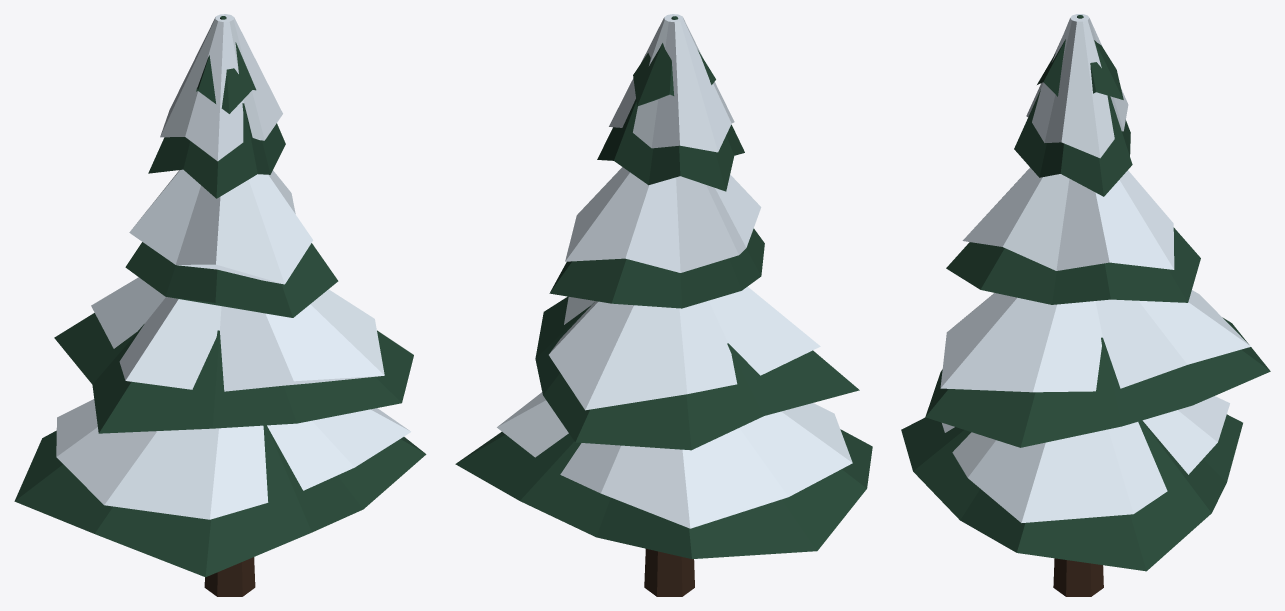
Rendered from Tree_Pine_B.fbx.
3 renders of one model, left to right at view 1: azimuth 30°, elevation 25°; view 2: azimuth 150°, elevation 25°; view 3: azimuth 270°, elevation 25°, orthographic.
Visible parts, largest first — view 1: Tree_Pine_B; view 2: Tree_Pine_B; view 3: Tree_Pine_B.
Part boxes in pixels (<box>): Tree_Pine_B: <box>14,14,426,596</box>; Tree_Pine_B: <box>455,14,872,596</box>; Tree_Pine_B: <box>901,14,1270,596</box>.
Bounding box in the file's own units: 428 × 646 × 381.
